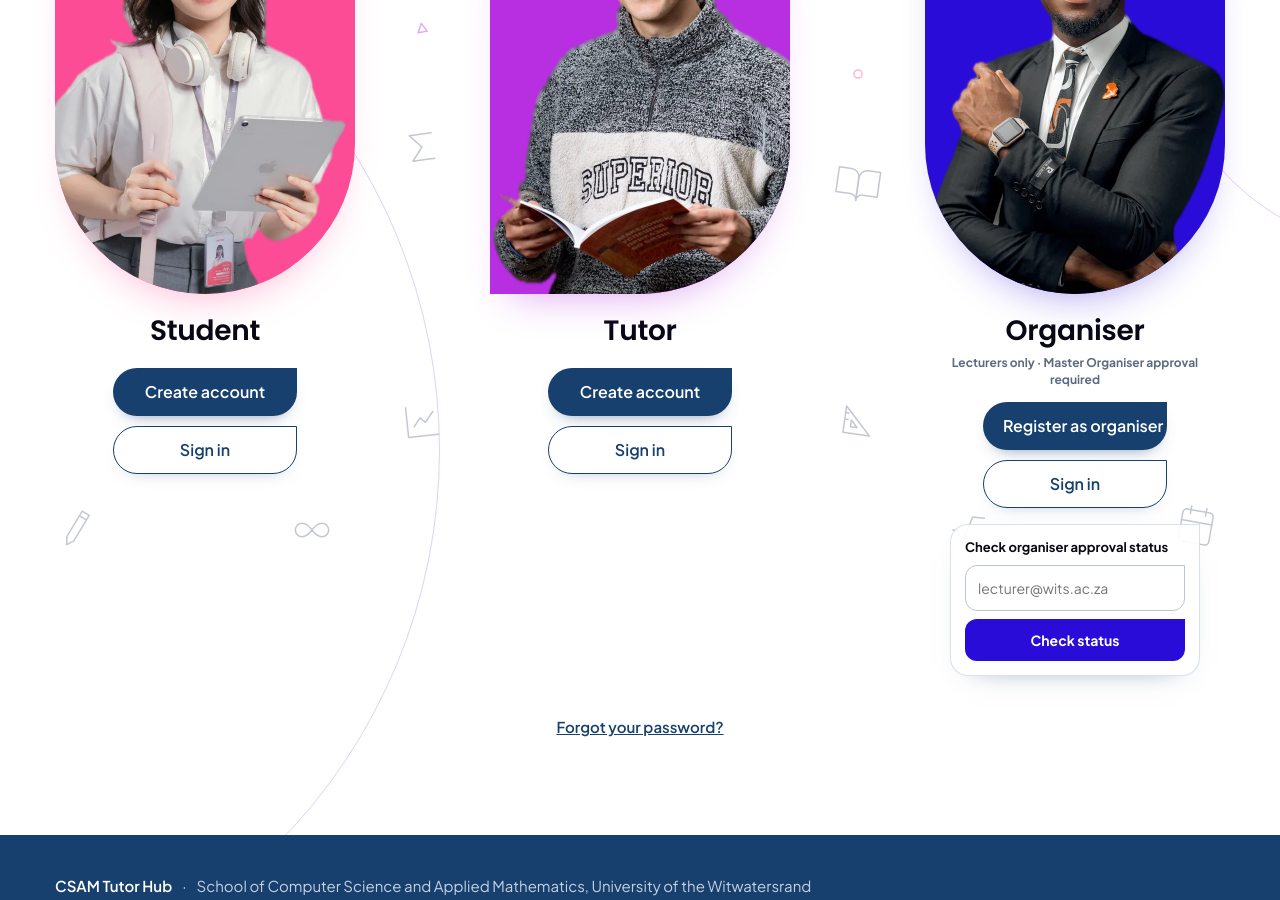
Auth entry flow › shows a safe message when Auth0 cannot start sign in
The width and height of the screenshot is (1280, 900).
(page scrolled)
Step 1. Click the button "Sign in" below "Student" → [205, 450], box [113,426,297,474]
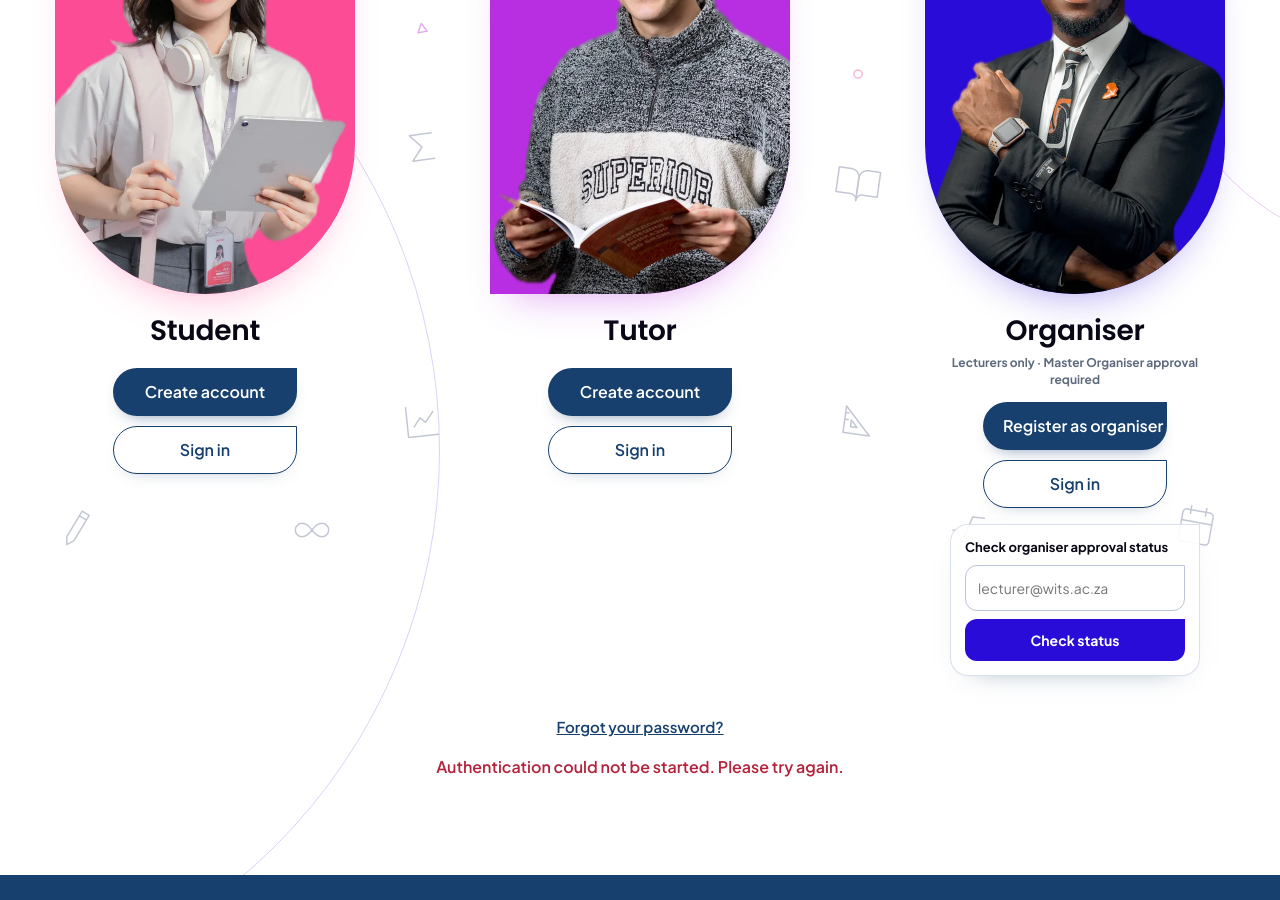
Expected: the text "Authentication could not be started. Please try again." is shown, [436,756,844,777]
